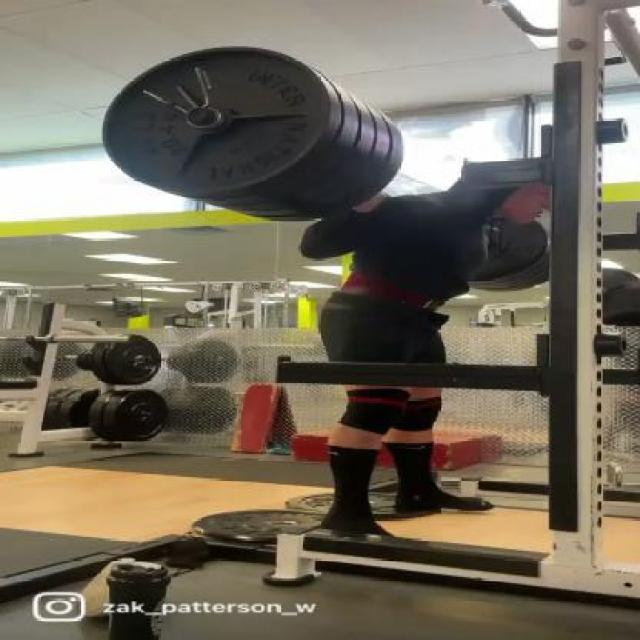Barbell: (172, 102, 226, 130)
